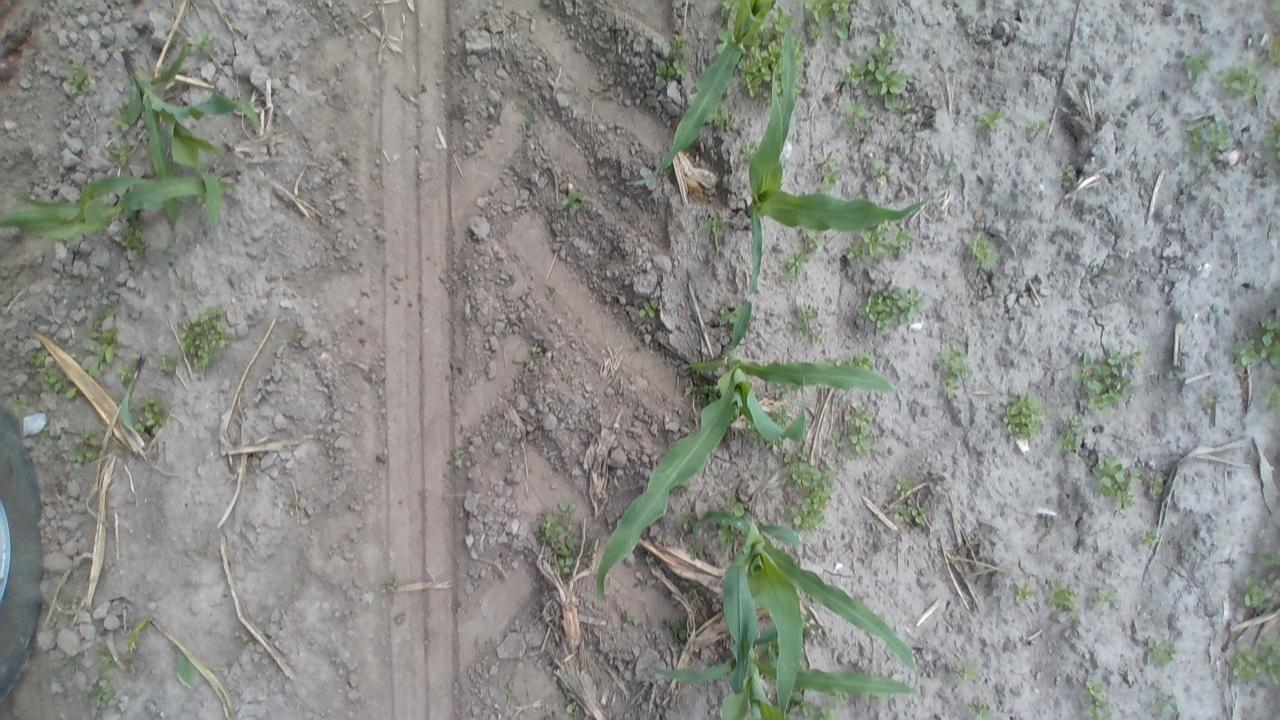Maize: (596, 354, 896, 602), (728, 15, 934, 352), (696, 511, 921, 719), (626, 0, 776, 189), (651, 619, 914, 720), (118, 46, 261, 230), (3, 164, 240, 244)
Weeds: (836, 34, 912, 128), (1078, 342, 1140, 409), (178, 302, 230, 374), (788, 458, 836, 536), (536, 500, 586, 573), (860, 283, 924, 329), (1234, 315, 1280, 377), (825, 405, 873, 461), (1092, 453, 1140, 509), (846, 226, 907, 265), (28, 352, 78, 398), (1227, 645, 1279, 687), (1244, 552, 1279, 614), (744, 44, 782, 92), (1186, 114, 1232, 153), (80, 336, 119, 378), (804, 0, 855, 32), (1006, 393, 1041, 438), (892, 481, 924, 527), (788, 229, 818, 277), (131, 395, 166, 436), (653, 37, 684, 80), (1224, 66, 1262, 98), (1082, 677, 1110, 720), (796, 304, 826, 342), (940, 348, 967, 387), (66, 436, 100, 466), (1060, 417, 1086, 454), (1181, 50, 1213, 80), (1144, 636, 1172, 670), (1262, 123, 1280, 173), (88, 676, 115, 708), (63, 65, 89, 96), (822, 156, 843, 191), (1050, 584, 1077, 611), (974, 105, 1005, 128), (764, 10, 790, 36), (970, 232, 991, 264), (1154, 694, 1179, 719), (867, 159, 892, 182), (1267, 27, 1280, 70), (638, 298, 661, 322), (705, 210, 728, 234), (118, 228, 143, 250), (1086, 588, 1118, 605), (1146, 472, 1168, 496), (956, 661, 978, 683), (1014, 582, 1035, 604), (966, 698, 988, 718), (1028, 119, 1048, 141), (116, 363, 136, 383), (564, 188, 582, 210), (712, 108, 731, 128), (1060, 161, 1078, 182), (714, 30, 729, 52), (1144, 522, 1158, 543)
